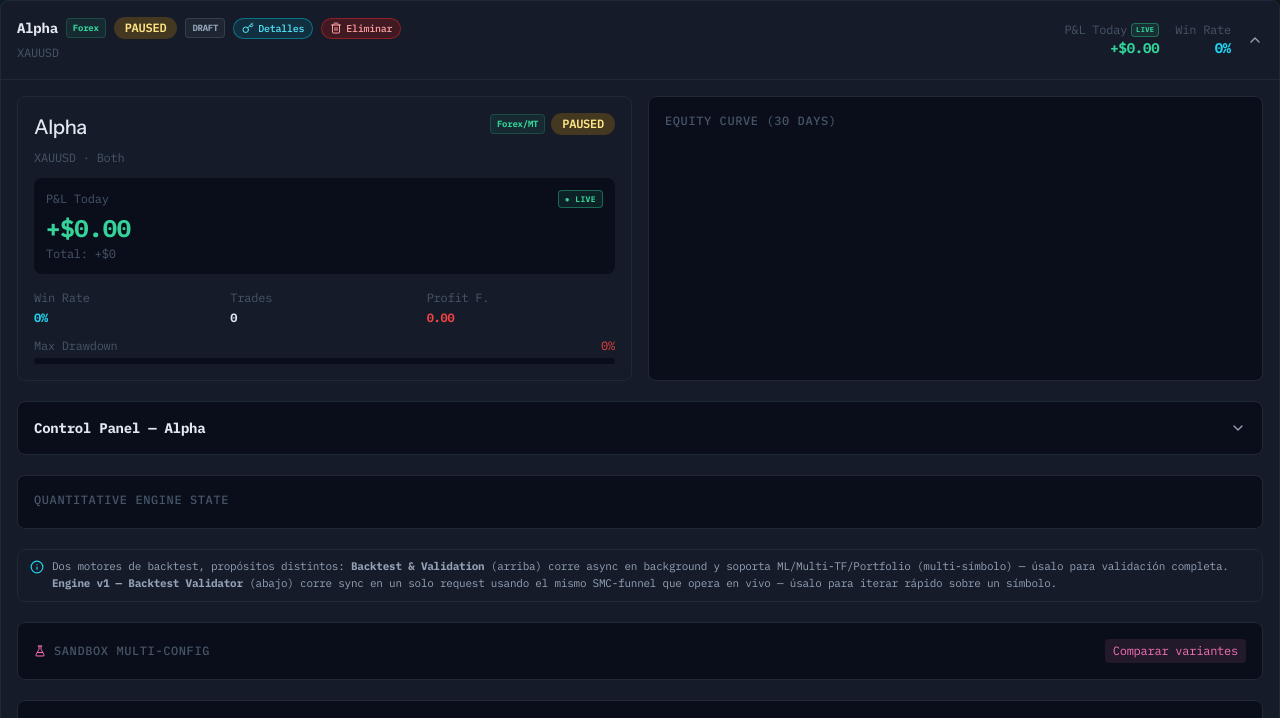
Test case: AlgoAccordion › clicking the row header collapses/re-expands it (aria-expanded toggle)
Click the button that starts with "Alpha". click: (37, 28)
box: [17,17,1263,60]
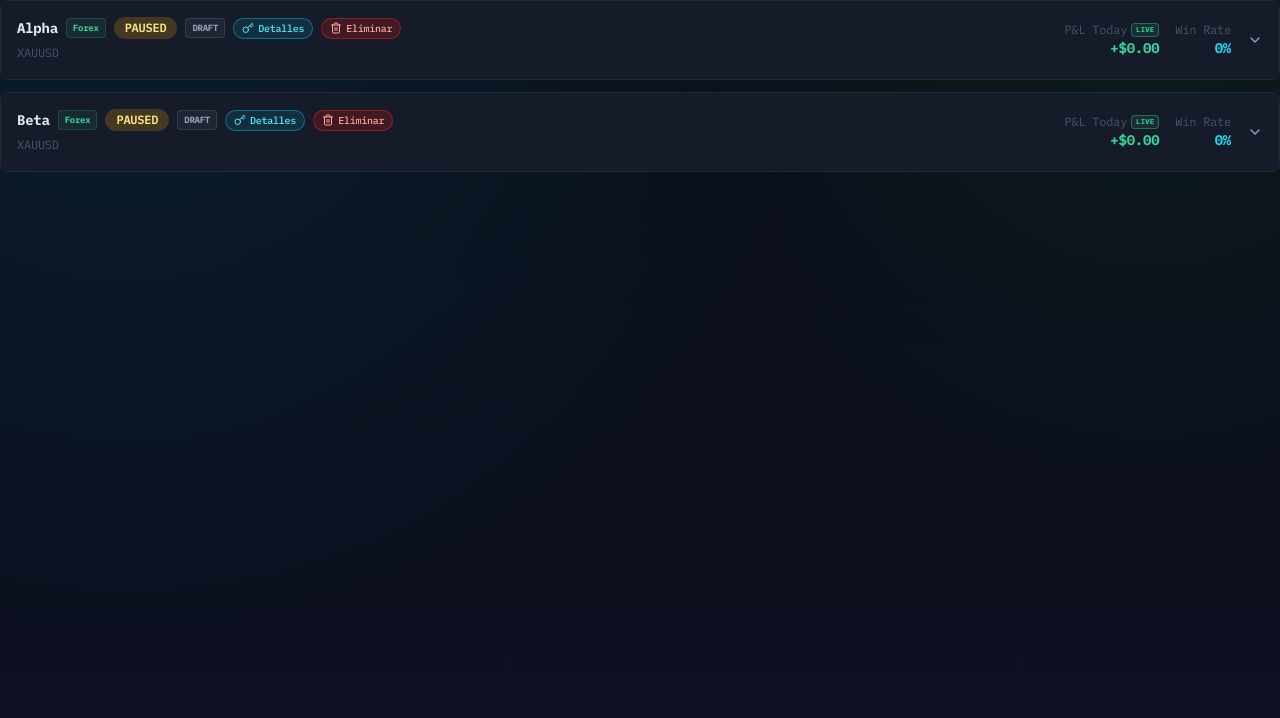
Result: the button that starts with "Alpha" is collapsed at [17,17,1263,60]
Click the button that starts with "Beta". click: (33, 120)
box: [17,109,1263,152]
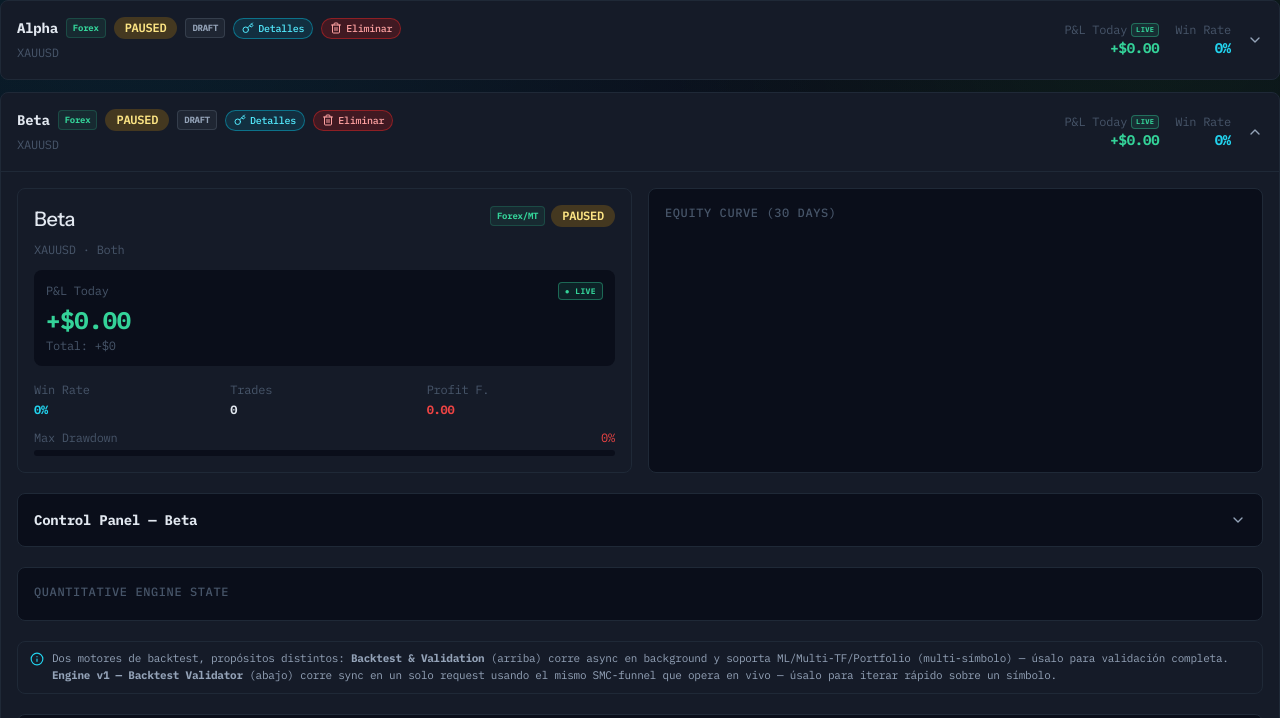
Result: the button that starts with "Beta" is expanded at [17,109,1263,152]
